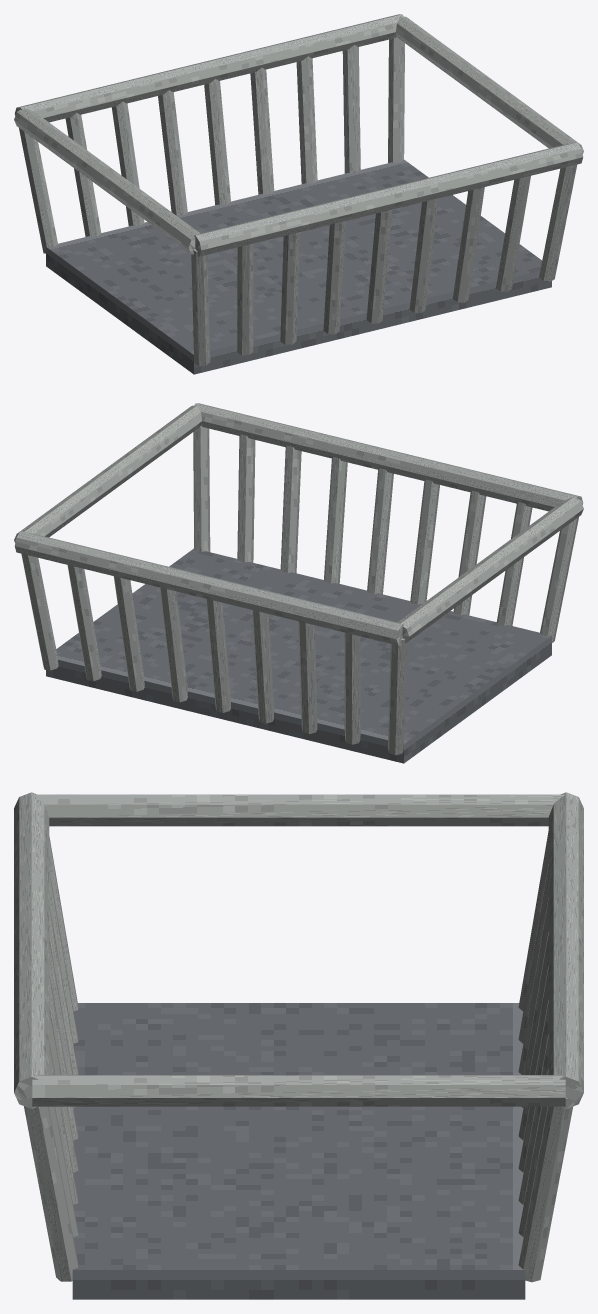
Rendered from basket.glb.
3 renders of one model, top to bottom at view 1: azimuth 30°, elevation 25°; view 2: azimuth 150°, elevation 25°; view 3: azimuth 270°, elevation 25°, orthographic. The views are drawn at different scales.
Parts seen in each view (by area): view 1: block_wire basket base, block_basket wire (×18), block_rolled top rail (×2), block_end top rail (×2); view 2: block_wire basket base, block_basket wire (×18), block_rolled top rail (×2), block_end top rail (×2); view 3: block_wire basket base, block_end top rail (×2), block_basket wire (×18), block_rolled top rail (×2).
Boxes of the visible parts, left/top/right/bottom form: block_wire basket base: left=46, top=159, right=551, bottom=374; block_basket wire (×18): left=19, top=37, right=577, bottom=365; block_rolled top rail (×2): left=14, top=14, right=583, bottom=256; block_end top rail (×2): left=14, top=16, right=583, bottom=254; block_wire basket base: left=46, top=548, right=551, bottom=763; block_basket wire (×18): left=21, top=425, right=578, bottom=755; block_rolled top rail (×2): left=14, top=403, right=583, bottom=645; block_end top rail (×2): left=14, top=405, right=583, bottom=643; block_wire basket base: left=72, top=1003, right=525, bottom=1299; block_end top rail (×2): left=32, top=794, right=565, bottom=1106; block_basket wire (×18): left=24, top=831, right=573, bottom=1282; block_rolled top rail (×2): left=14, top=792, right=583, bottom=1108.
Size of the model in its own units: 0.5364 by 0.1968 by 0.4386.
1 material, 1 textured.
